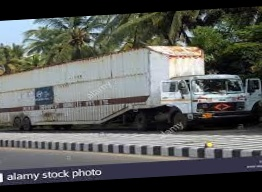truck: (0, 40, 262, 141)
